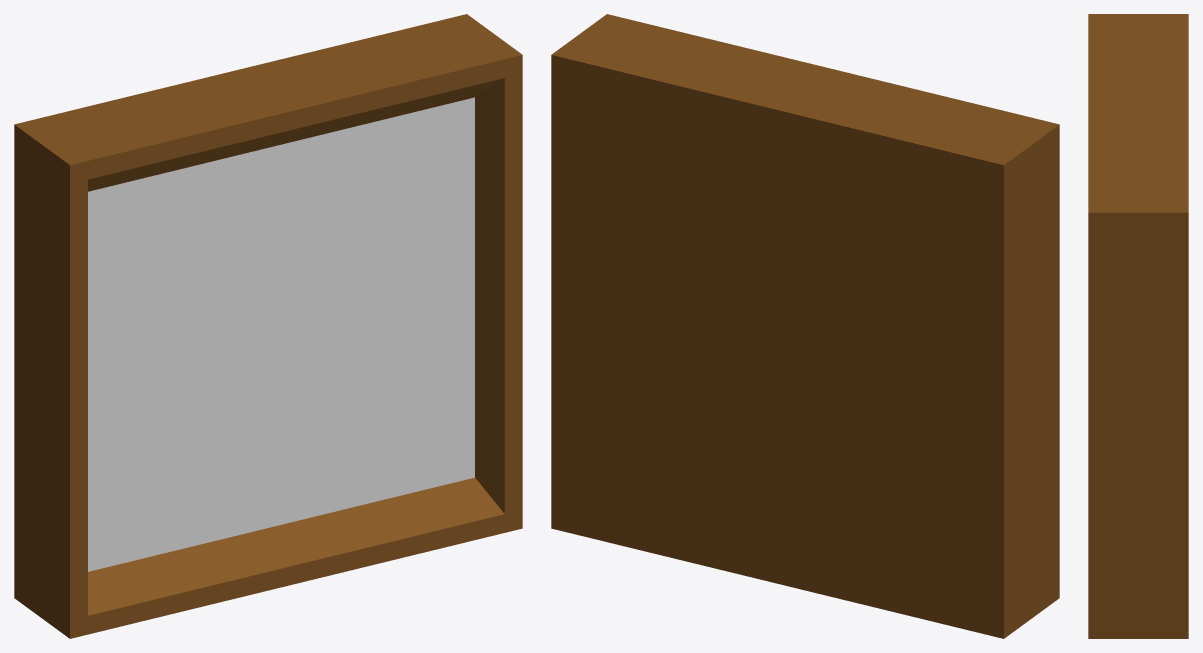
Rendered from Sign.fbx.
3 renders of one model, left to right at view 1: azimuth 30°, elevation 25°; view 2: azimuth 150°, elevation 25°; view 3: azimuth 270°, elevation 25°, orthographic. The views are drawn at different scales.
Parts seen in each view (by area): view 1: Sign; view 2: Sign; view 3: Sign.
Boxes of the visible parts, x1,y1,x2,y2 form: Sign: (14, 14, 522, 638); Sign: (551, 14, 1059, 638); Sign: (1088, 14, 1188, 638).
Size of the model in its own units: 57.31 by 57.31 by 12.24.
